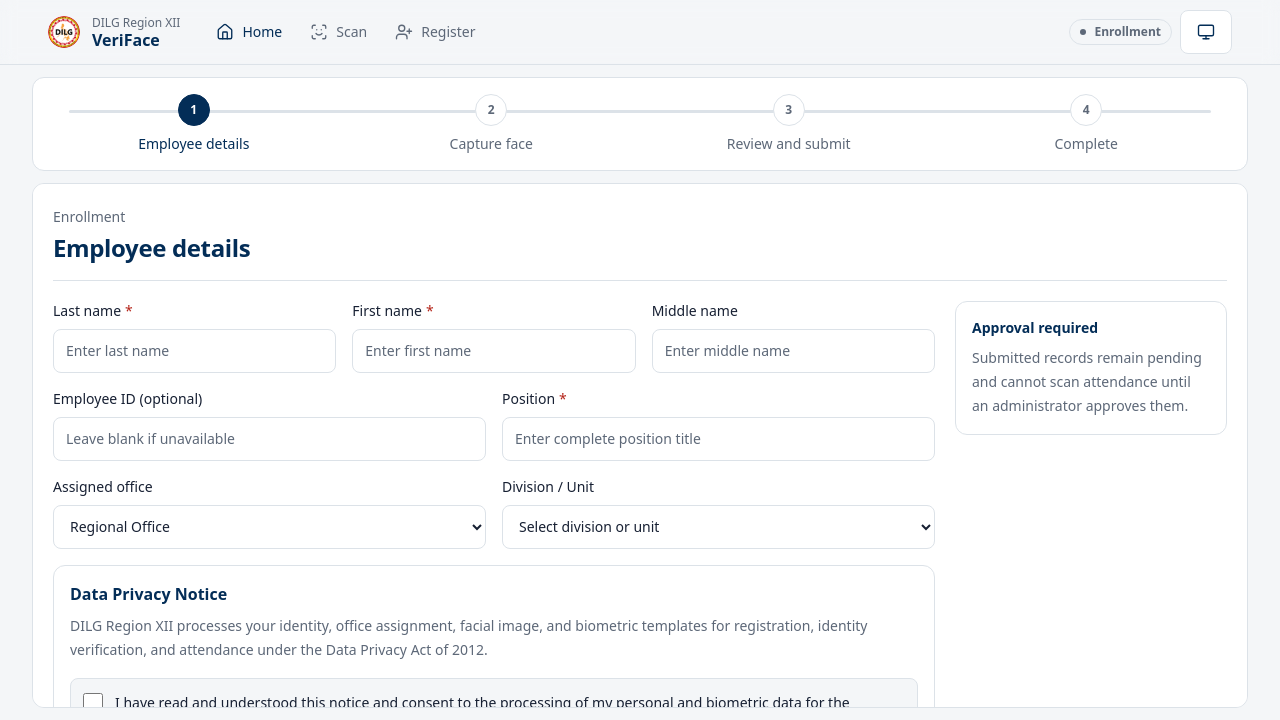
employee registration presentation contracts › keeps Employee ID optional and digits-only
Type "A12B" into the field labelled "Employee ID (optional)".
click(270, 439); type("A12B")  # box [53, 417, 486, 461]
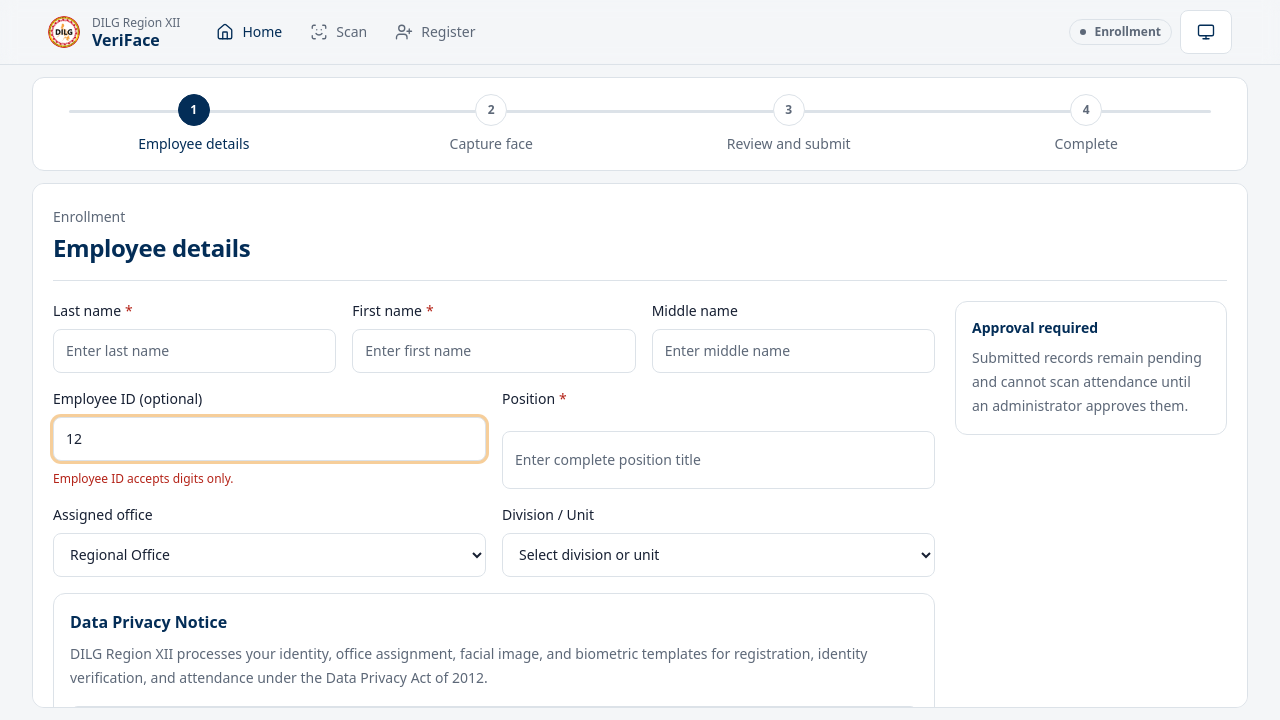
Result: the field labelled "Employee ID (optional)" holds "12" at [53, 417, 486, 461]
Result: the text "Employee ID accepts digits only." is shown at [53, 470, 234, 487]
